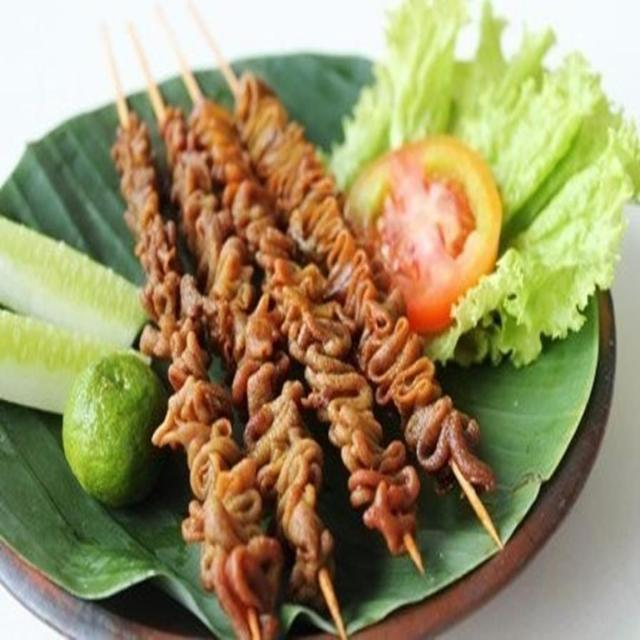Sate: (82, 41, 466, 578)
